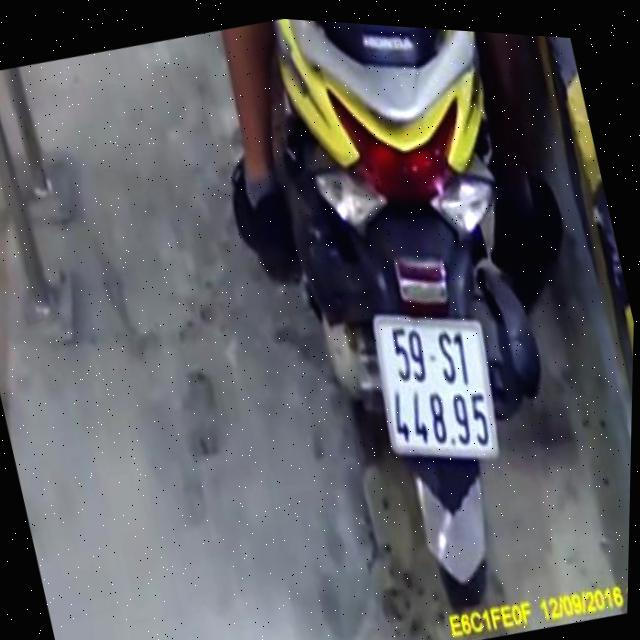motorcycle: (186, 13, 628, 640)
plate: (357, 286, 513, 488)
